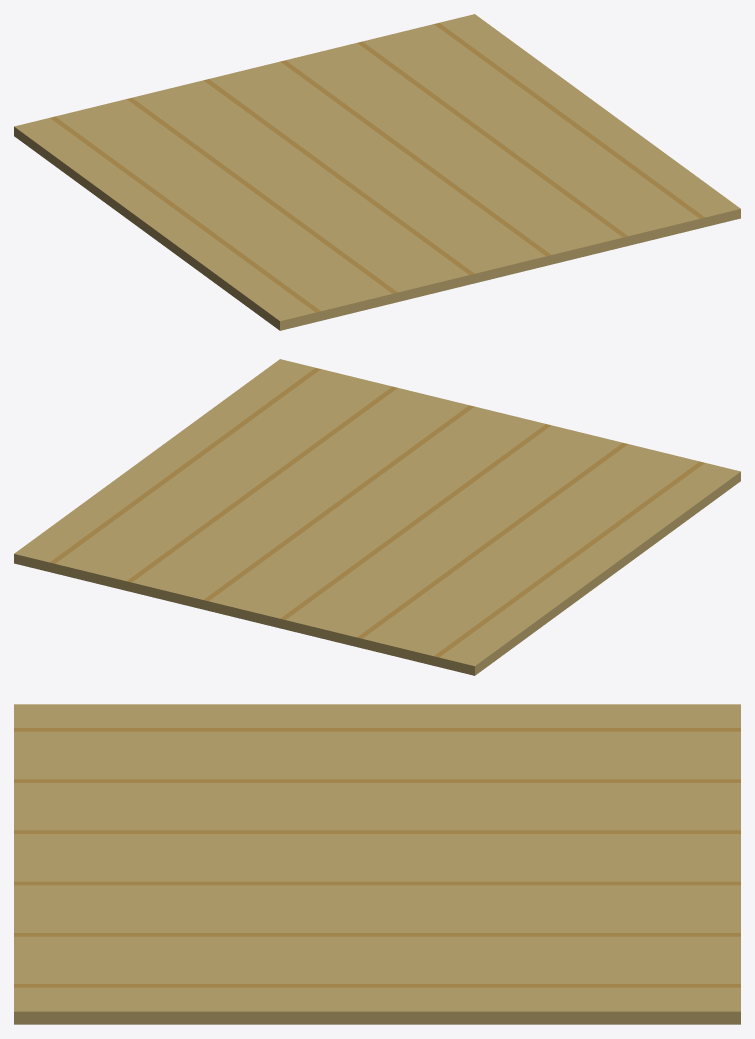
The model's file is far.fbx.
The picture shows the model from 3 angles, top to bottom: view 1: azimuth 30°, elevation 25°; view 2: azimuth 150°, elevation 25°; view 3: azimuth 270°, elevation 25°; orthographic projection. The views are drawn at different scales.
Parts seen in each view (by area): view 1: a1000/600/far; view 2: a1000/600/far; view 3: a1000/600/far.
Part boxes in pixels (<box>): a1000/600/far: <box>14,14,740,330</box>; a1000/600/far: <box>14,359,740,675</box>; a1000/600/far: <box>14,704,740,1024</box>.
Size of the model in its own units: 50 by 1 by 50.
